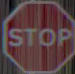Stop: (8, 3, 70, 66)
